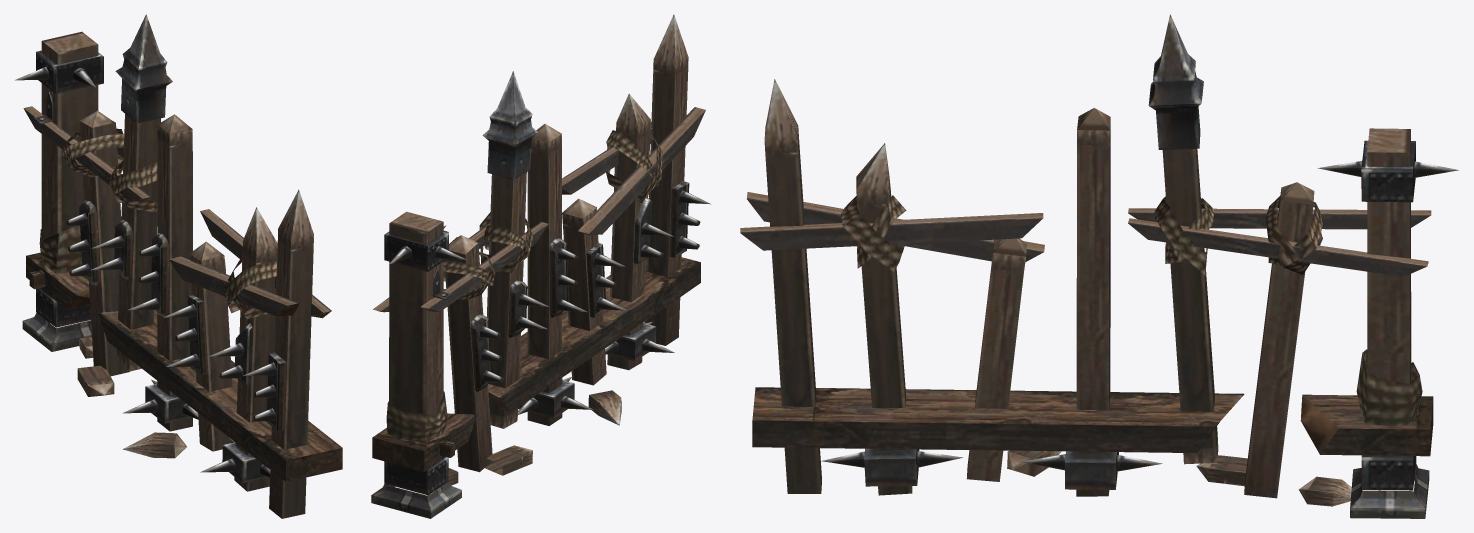
The model's file is 4005_Item_zhalan_1.FBX.
The picture shows the model from 3 angles, left to right: view 1: azimuth 30°, elevation 25°; view 2: azimuth 150°, elevation 25°; view 3: azimuth 270°, elevation 25°; orthographic projection. The views are drawn at different scales.
Visible parts, largest first — view 1: 4005_Item_zhalan_1; view 2: 4005_Item_zhalan_1; view 3: 4005_Item_zhalan_1.
Boxes of the visible parts, box(x1,y1,x2,y2) form: 4005_Item_zhalan_1: box(15, 14, 342, 518); 4005_Item_zhalan_1: box(371, 14, 710, 518); 4005_Item_zhalan_1: box(740, 14, 1458, 518).
Bounding box in the file's own units: 56.03 × 184 × 252.
